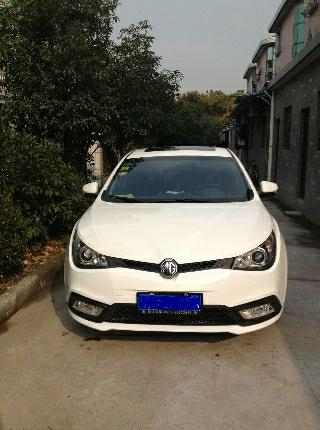car: (46, 135, 297, 350)
